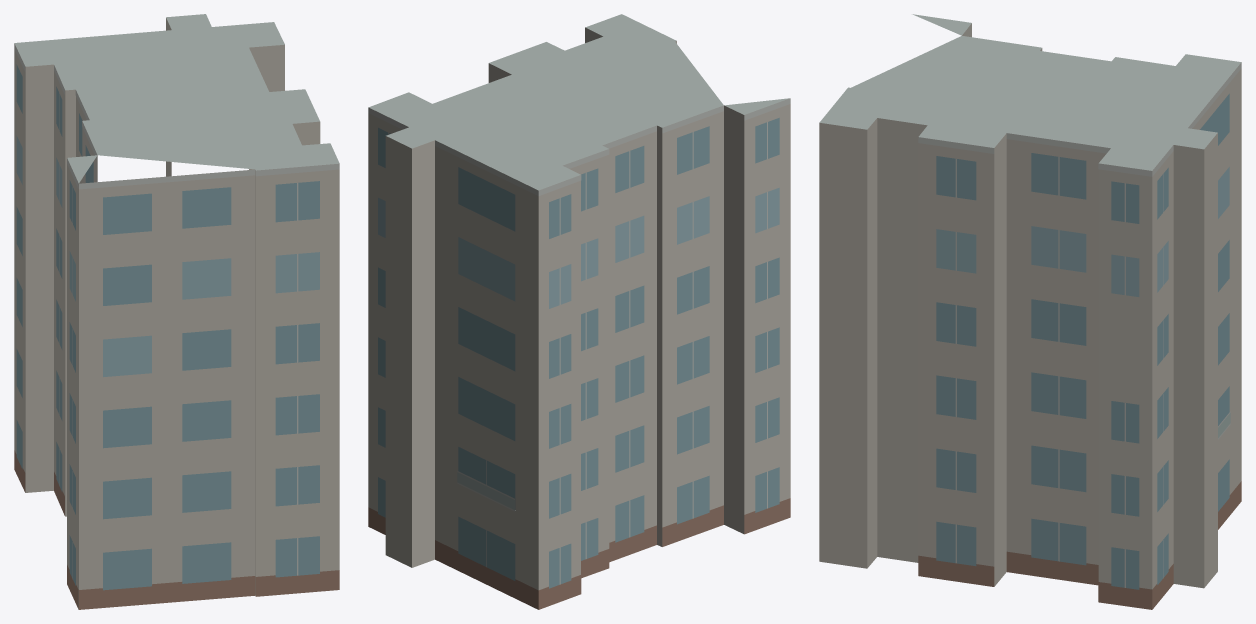
The model's file is survey-upis-32705378.glb.
3 renders of one model, left to right at view 1: azimuth 30°, elevation 25°; view 2: azimuth 150°, elevation 25°; view 3: azimuth 270°, elevation 25°, orthographic. The views are drawn at different scales.
Parts seen in each view (by area): view 1: survey-upis-32705378.tmp; view 2: survey-upis-32705378.tmp; view 3: survey-upis-32705378.tmp.
Part boxes in pixels (bbox=[...]): survey-upis-32705378.tmp: bbox=[14, 14, 339, 609]; survey-upis-32705378.tmp: bbox=[368, 14, 790, 609]; survey-upis-32705378.tmp: bbox=[819, 14, 1241, 609].
Size of the model in its own units: 13.73 by 17.9 by 15.62.
